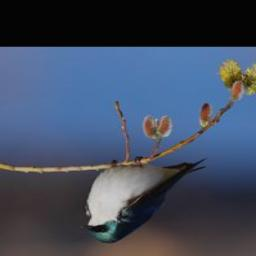Swallow: (78, 159, 207, 245)
